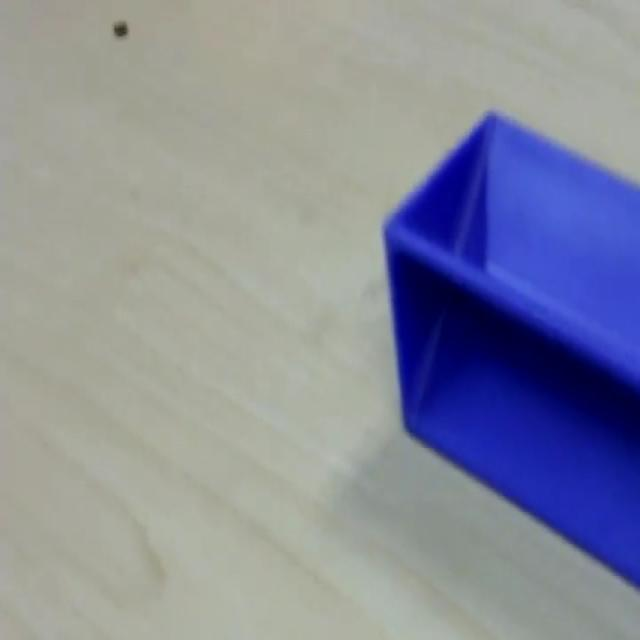blue_block: (381, 107, 638, 589)
